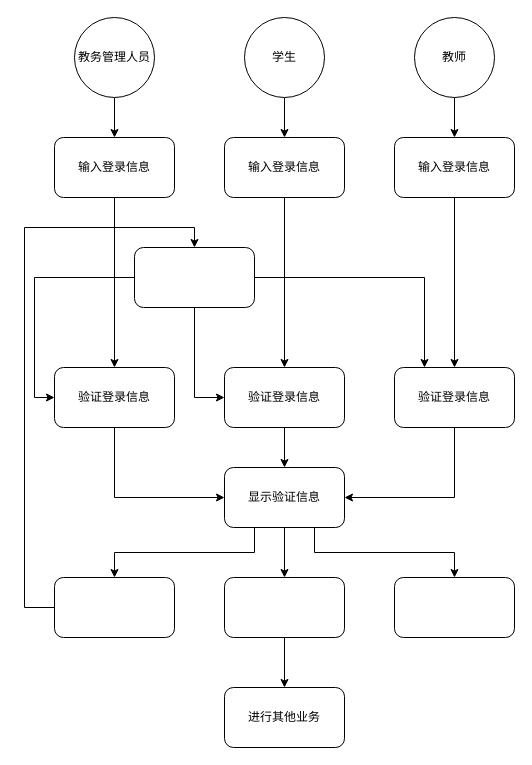
Some shapes in this 532 by 765 pixel diagram are drawn without their labels. The shapes that lost their labels are listed below. From the top down, each one's centre as x and y in pixels, then its label:
point 194,277: 用户信息
point 114,607: 修改密码
point 284,607: 进入系统
point 454,607: 登陆失败，退出
